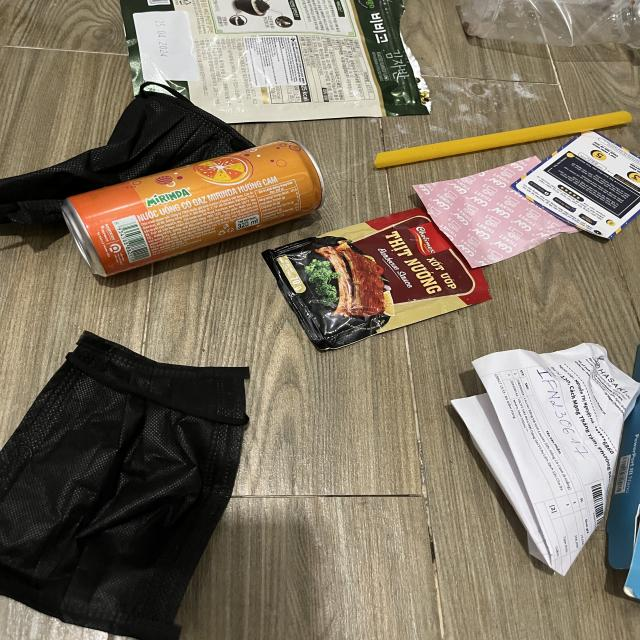can: (61, 139, 326, 278)
drinking straw: (376, 110, 632, 168)
mask: (0, 331, 249, 640), (0, 83, 254, 236)
packet: (262, 205, 494, 352)
paper: (452, 343, 640, 576), (415, 156, 581, 268), (508, 130, 640, 242)
snack package: (120, 0, 432, 123)
